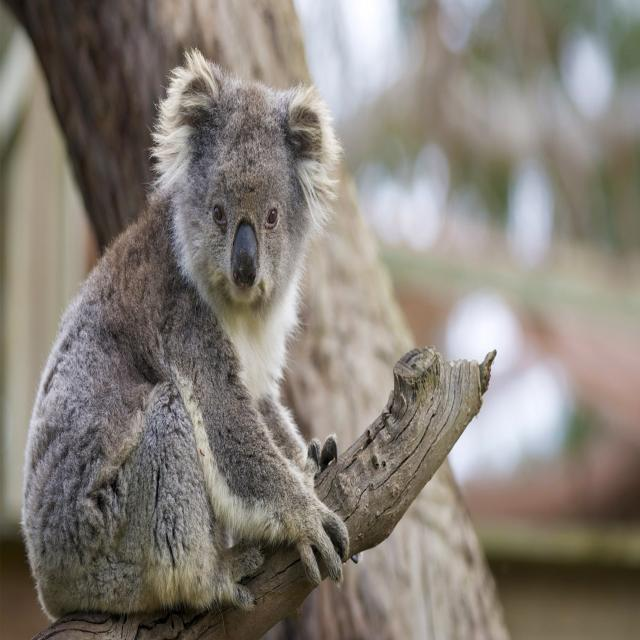Koala: (16, 42, 352, 617)
